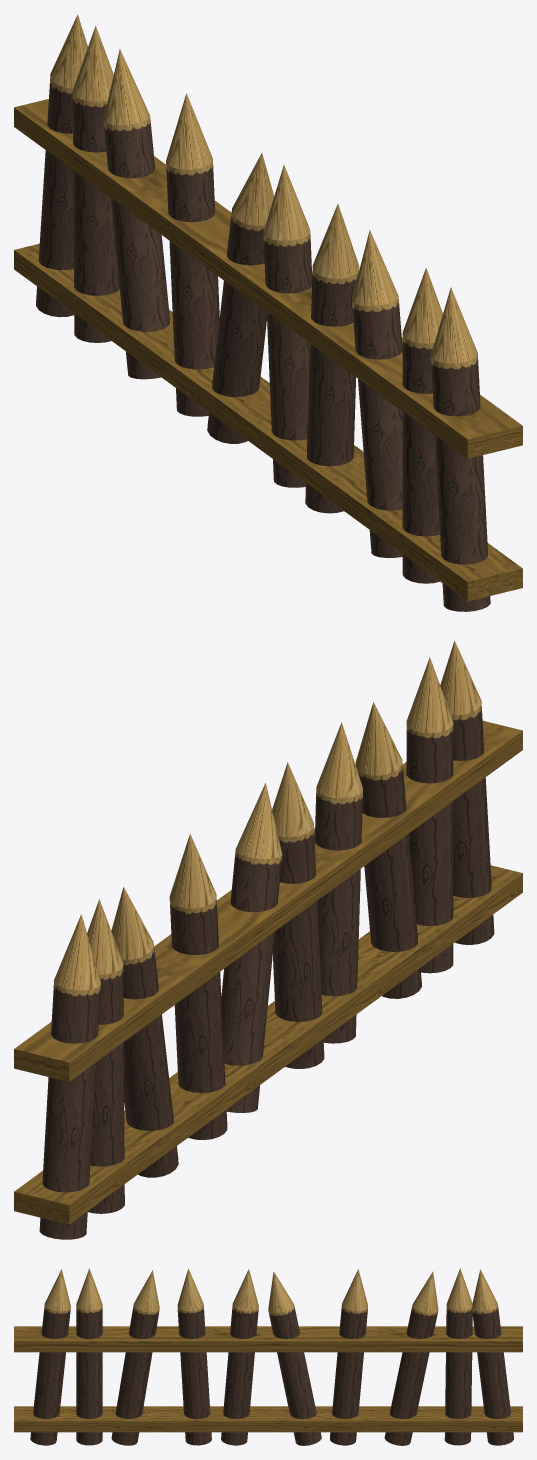
Rendered from cercadestrutivel.FBX.
3 renders of one model, top to bottom at view 1: azimuth 30°, elevation 25°; view 2: azimuth 150°, elevation 25°; view 3: azimuth 270°, elevation 25°, orthographic. The views are drawn at different scales.
Parts seen in each view (by area): view 1: cerca destrutivel; view 2: cerca destrutivel; view 3: cerca destrutivel.
Boxes of the visible parts, bbox=[...] form: cerca destrutivel: bbox=[14, 14, 522, 611]; cerca destrutivel: bbox=[14, 640, 522, 1239]; cerca destrutivel: bbox=[14, 1268, 522, 1445].
Bounding box in the file's own units: 15.11 × 80.98 × 215.
